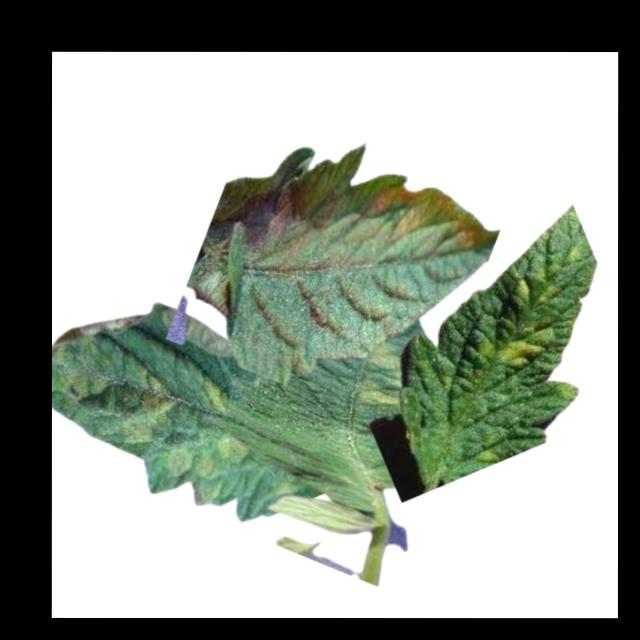Leaf_Mold: (57, 338, 175, 444), (364, 179, 488, 256), (163, 433, 246, 505), (349, 340, 403, 413), (479, 327, 553, 372), (513, 271, 562, 313), (201, 372, 232, 415)
